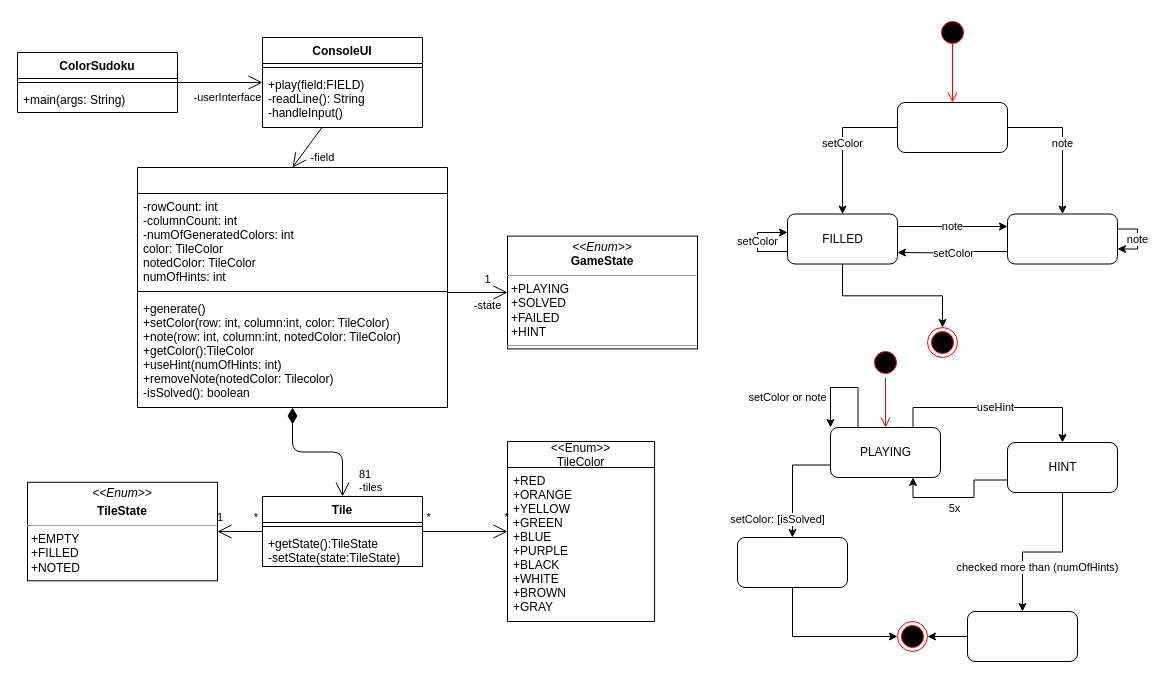
Image size: 1165x679. Some labels were removed from this diagram. The shapes that lost their labels are listed below. From the top down, each one's box as (x1, y1, x2, y2) in pixels, then its label:
(896, 102, 1008, 152): EMPTY
(1006, 213, 1118, 264): NOTED
(136, 166, 448, 408): Field
(736, 536, 848, 588): SOLVED
(966, 610, 1078, 662): FAILED
